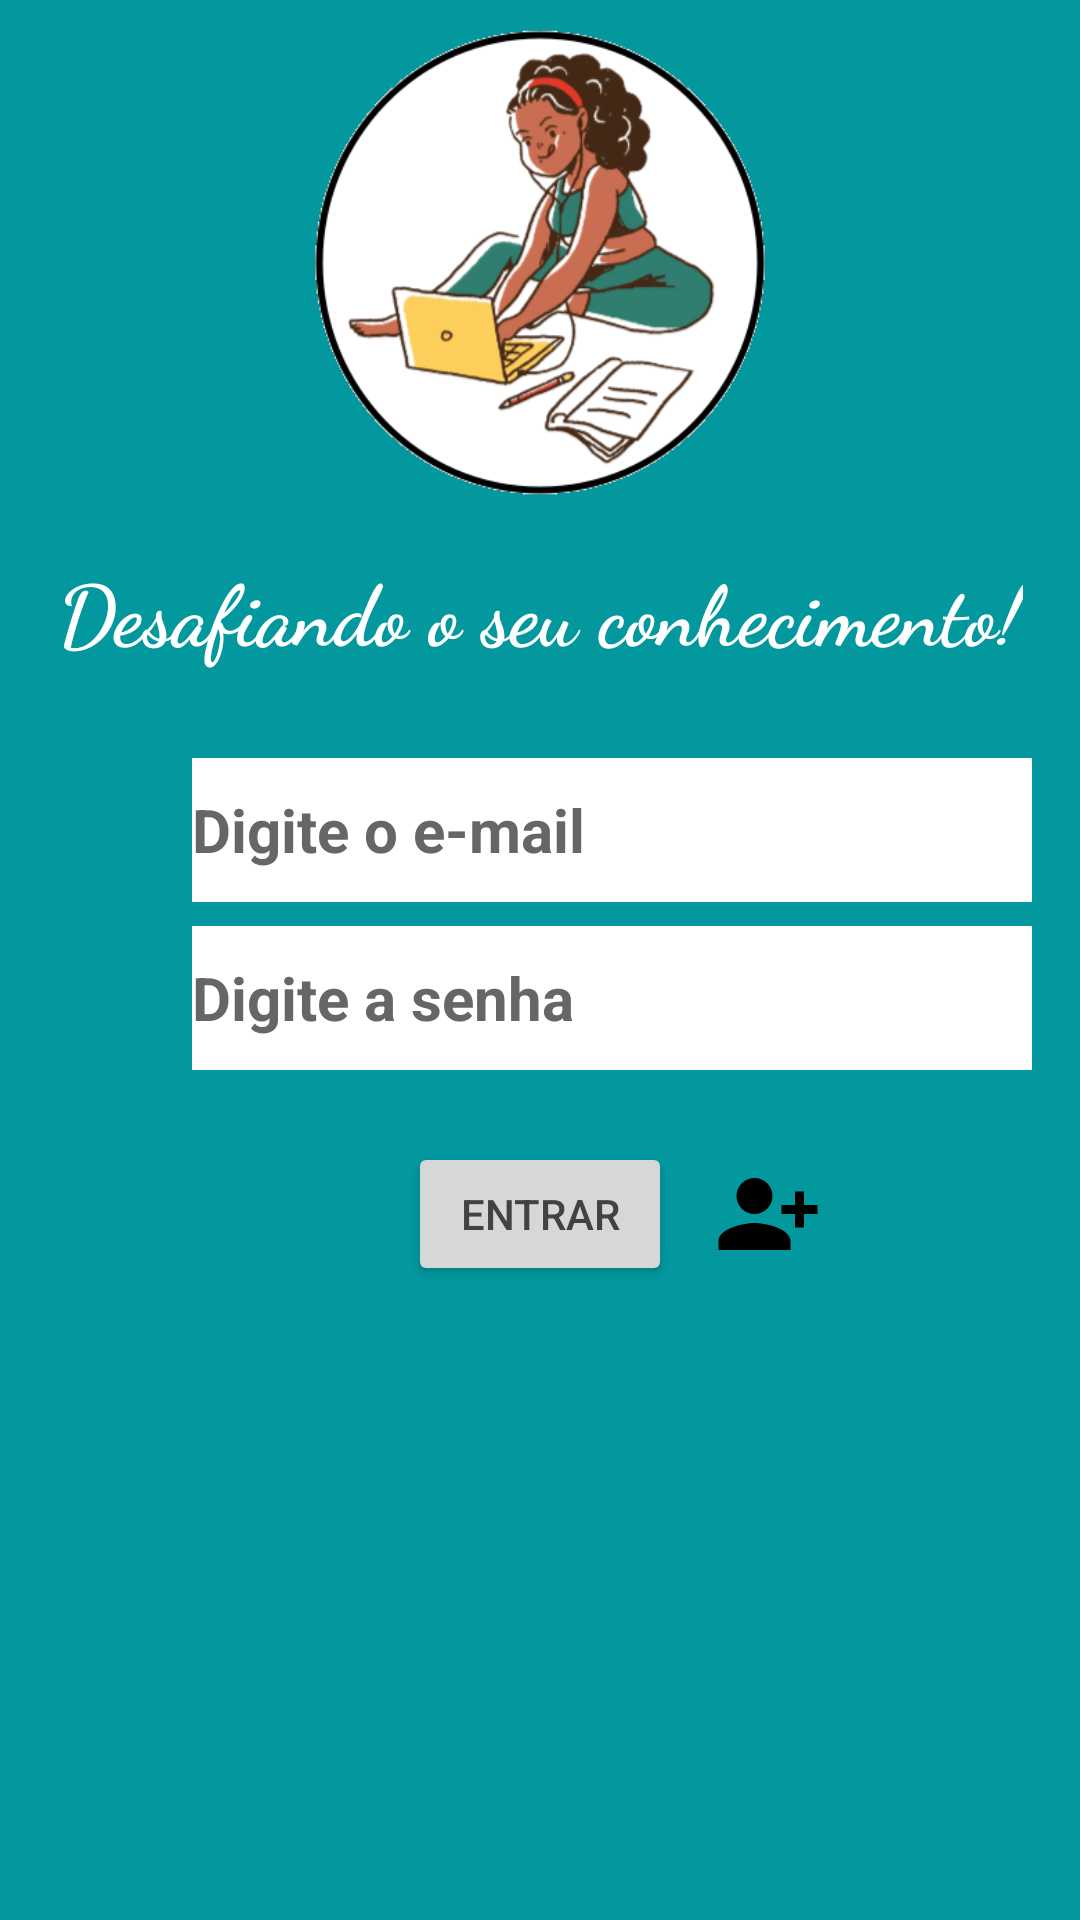

Screen size 1080px×1920px. Icon name, then its center in pixels as (x,y):
Ícone do btão inscreva-se: (768,1214)
